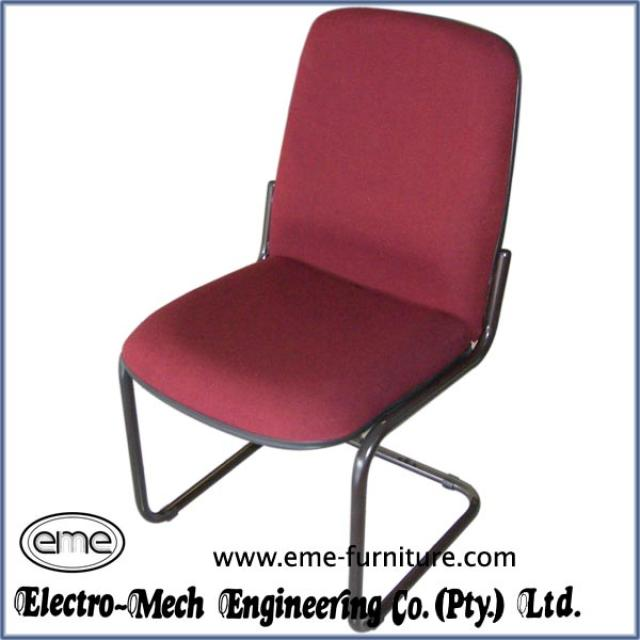chair: (116, 7, 525, 630)
